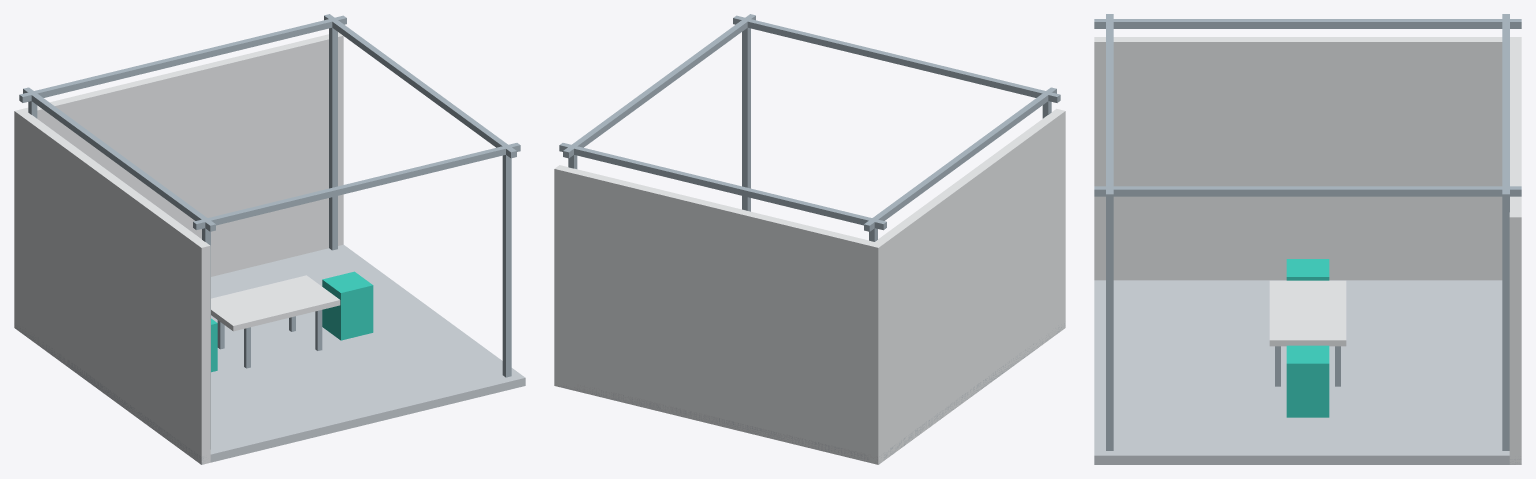
3 renders of one model, left to right at view 1: azimuth 30°, elevation 25°; view 2: azimuth 150°, elevation 25°; view 3: azimuth 270°, elevation 25°, orthographic. The views are drawn at different scales.
Visible parts, largest first — view 1: Exhibition Booth Concept; view 2: Exhibition Booth Concept; view 3: Exhibition Booth Concept.
Part boxes in pixels (x1,y1,x2,y2): Exhibition Booth Concept: (14, 14, 525, 464); Exhibition Booth Concept: (554, 14, 1065, 464); Exhibition Booth Concept: (1094, 14, 1521, 464).
Bounding box in the file's own units: 5 × 3.49 × 5.
